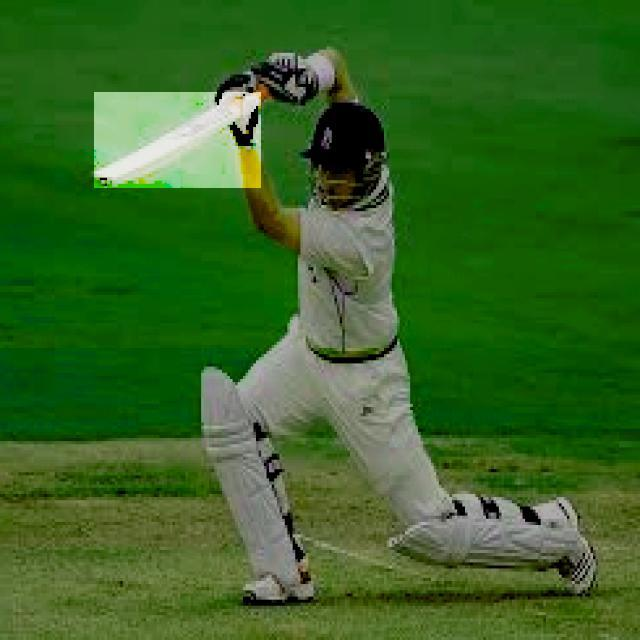bat: (94, 93, 261, 187)
toe: (93, 168, 119, 186)
